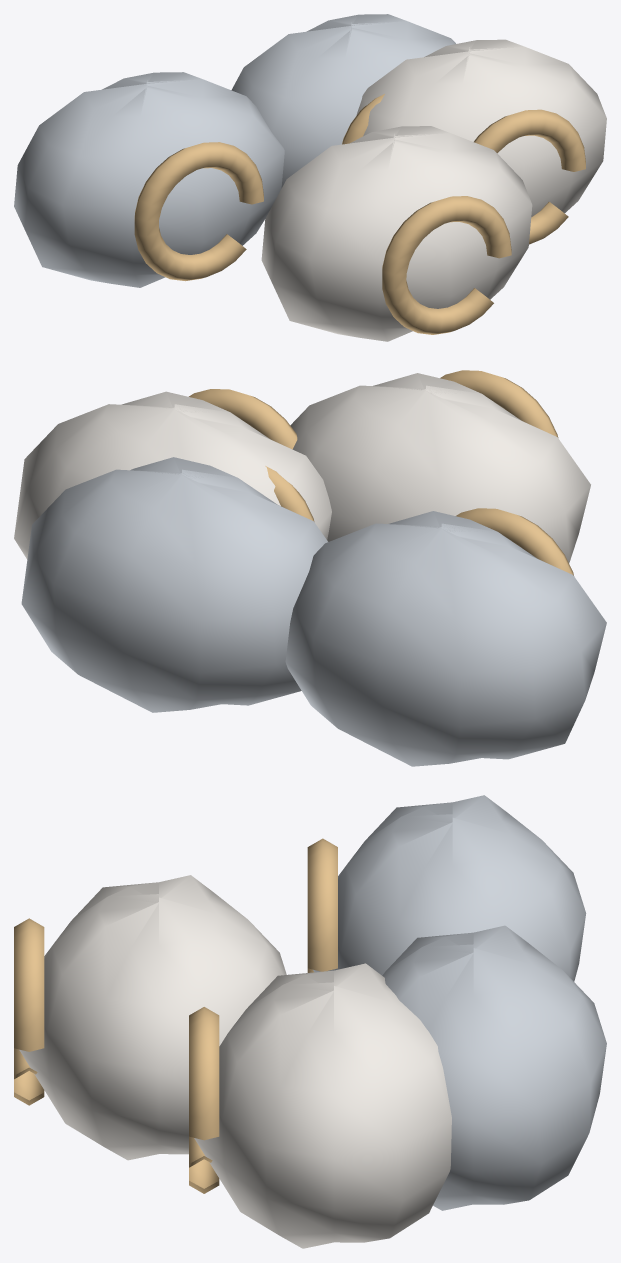
File: pond_shellstone.glb
The picture shows the model from 3 angles, top to bottom: view 1: azimuth 30°, elevation 25°; view 2: azimuth 150°, elevation 25°; view 3: azimuth 270°, elevation 25°; orthographic projection. The views are drawn at different scales.
Parts seen in each view (by area): view 1: POND_shellstone_riverstone_2, POND_shellstone_riverstone_1, POND_shellstone_riverstone_0, POND_shellstone_riverstone_3, POND_shellstone_spiral_2, POND_shellstone_spiral_1, POND_shellstone_spiral_0, POND_shellstone_spiral_3; view 2: POND_shellstone_riverstone_1, POND_shellstone_riverstone_3, POND_shellstone_riverstone_2, POND_shellstone_riverstone_0, POND_shellstone_spiral_2, POND_shellstone_spiral_1, POND_shellstone_spiral_0, POND_shellstone_spiral_3; view 3: POND_shellstone_riverstone_0, POND_shellstone_riverstone_2, POND_shellstone_riverstone_3, POND_shellstone_riverstone_1, POND_shellstone_spiral_2, POND_shellstone_spiral_0, POND_shellstone_spiral_1.
Boxes of the visible parts, <box> form: POND_shellstone_riverstone_2: <box>261,126,532,341</box>; POND_shellstone_riverstone_1: <box>14,72,284,287</box>; POND_shellstone_riverstone_0: <box>356,39,606,216</box>; POND_shellstone_riverstone_3: <box>231,14,455,187</box>; POND_shellstone_spiral_2: <box>382,196,511,334</box>; POND_shellstone_spiral_1: <box>134,142,263,281</box>; POND_shellstone_spiral_0: <box>474,109,585,244</box>; POND_shellstone_spiral_3: <box>342,94,384,144</box>; POND_shellstone_riverstone_1: <box>285,511,606,766</box>; POND_shellstone_riverstone_3: <box>21,457,327,712</box>; POND_shellstone_riverstone_2: <box>290,373,590,562</box>; POND_shellstone_riverstone_0: <box>14,391,331,559</box>; POND_shellstone_spiral_2: <box>440,370,558,437</box>; POND_shellstone_spiral_1: <box>456,508,573,575</box>; POND_shellstone_spiral_0: <box>189,389,297,449</box>; POND_shellstone_spiral_3: <box>265,466,314,521</box>; POND_shellstone_riverstone_0: <box>194,963,451,1248</box>; POND_shellstone_riverstone_2: <box>19,875,286,1160</box>; POND_shellstone_riverstone_3: <box>382,925,606,1210</box>; POND_shellstone_riverstone_1: <box>313,795,586,981</box>; POND_shellstone_spiral_2: <box>14,918,44,1105</box>; POND_shellstone_spiral_0: <box>189,1007,219,1193</box>; POND_shellstone_spiral_1: <box>307,838,337,972</box>.
Bounding box in the file's own units: 0.9961 × 0.3616 × 0.7764.
